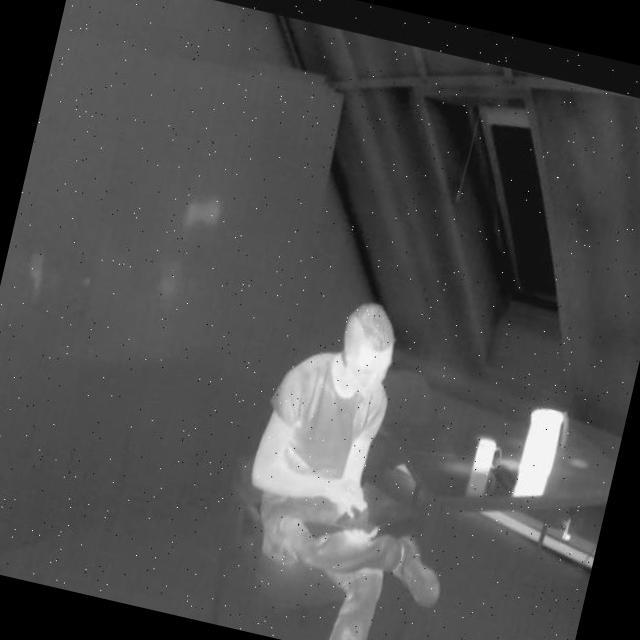person: (214, 284, 503, 640)
